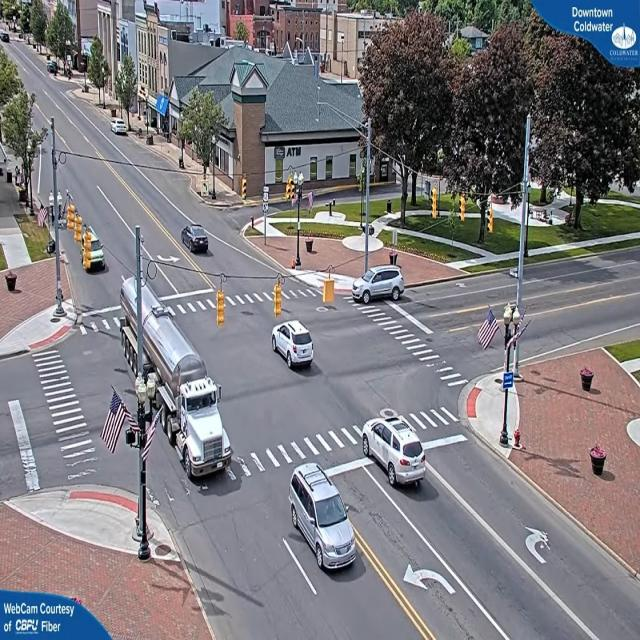car: (286, 466, 355, 574), (366, 416, 428, 489), (272, 320, 316, 368), (359, 268, 404, 304), (182, 224, 212, 254), (82, 234, 107, 270), (112, 121, 130, 138)
truck: (160, 354, 232, 479)
